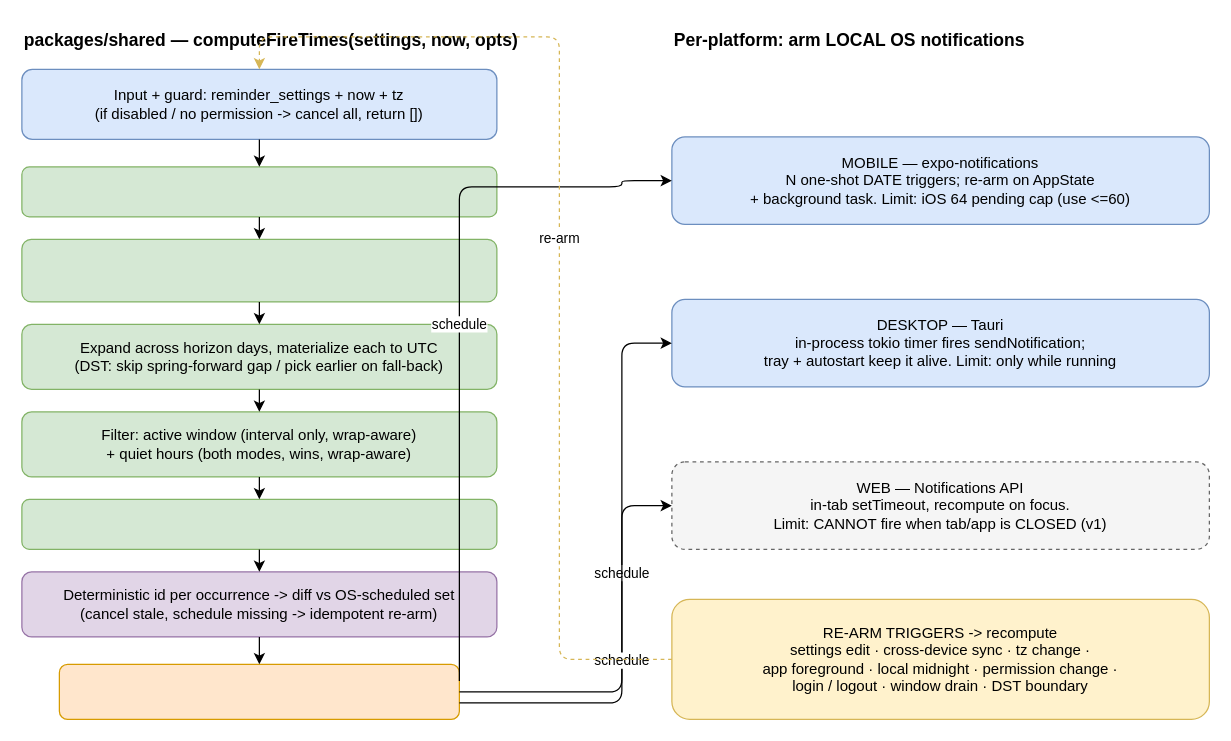
Image size: 1231x741. Some labels were removed from this diagram. Each missing label, with the box of its shape:
Drop past (> now + buffer); sort, dedupe, truncate to N: (21, 498, 497, 549)
occurrences[ { id, fireAtUtc, title, body } ]: (58, 663, 459, 719)
Per-day local slots: INTERVAL = fixed grid from window_start | TIMES = times[]: (21, 238, 497, 302)
Resolve now into user IANA tz (Luxon, DST-correct): (21, 166, 497, 217)
